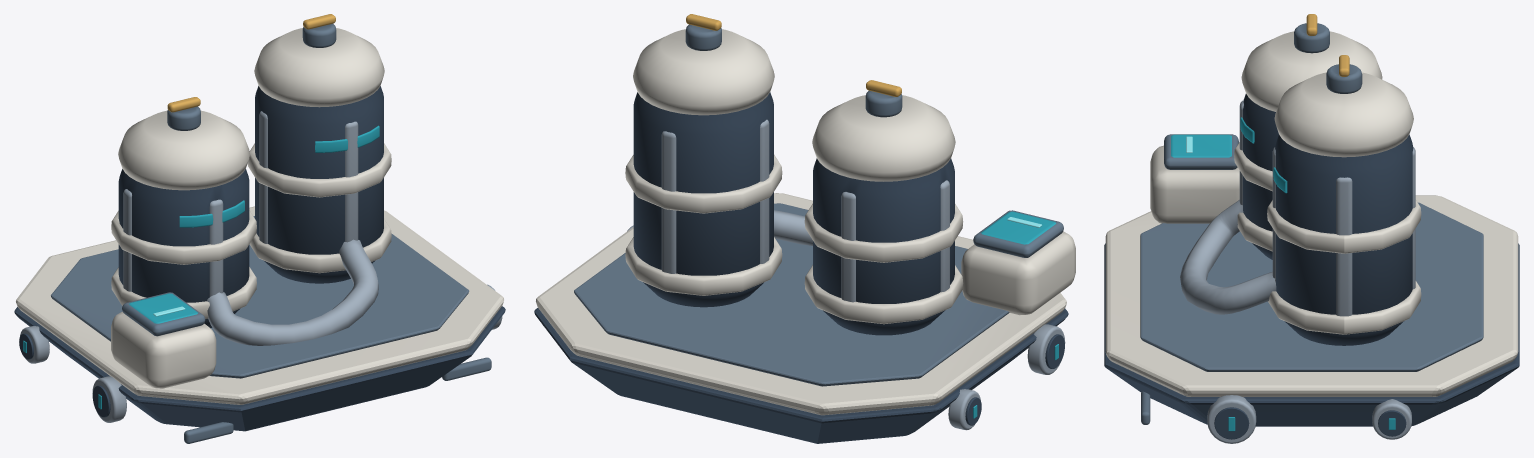
The model's file is heavy_element_refinery_lv1.glb.
3 renders of one model, left to right at view 1: azimuth 30°, elevation 25°; view 2: azimuth 150°, elevation 25°; view 3: azimuth 270°, elevation 25°, orthographic. The views are drawn at different scales.
Parts seen in each view (by area): view 1: Structure; view 2: Structure; view 3: Structure.
Part boxes in pixels (left/top/right/bottom): Structure: left=14, top=14, right=505, bottom=443; Structure: left=534, top=14, right=1075, bottom=443; Structure: left=1104, top=14, right=1519, bottom=443.
Bounding box in the file's own units: 6.37 × 4.75 × 5.41.
